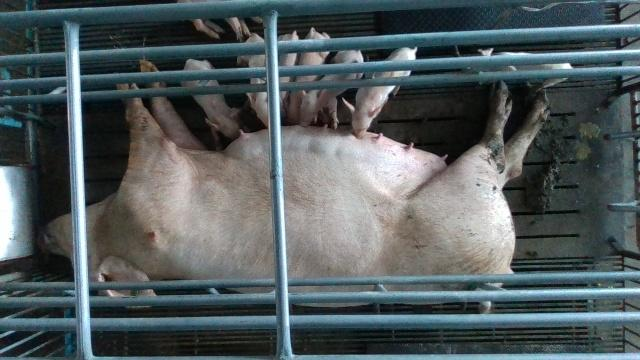piglet: (342, 45, 418, 139), (176, 57, 242, 151), (299, 48, 366, 128), (463, 48, 572, 88), (291, 25, 332, 125), (236, 30, 271, 131), (178, 16, 264, 40), (278, 28, 300, 112)
sow-sleep-lactate: (39, 58, 551, 315)
